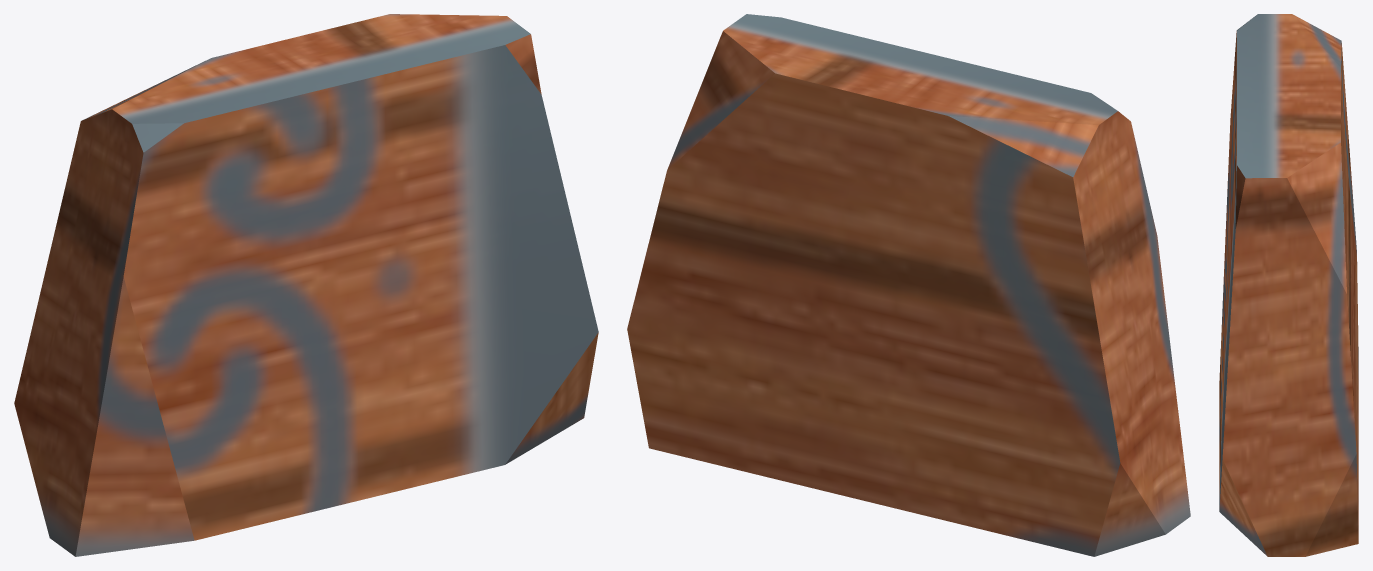
The model's file is Kamen_normal1.fbx.
3 renders of one model, left to right at view 1: azimuth 30°, elevation 25°; view 2: azimuth 150°, elevation 25°; view 3: azimuth 270°, elevation 25°, orthographic. The views are drawn at different scales.
Visible parts, largest first — view 1: Kamen_normal1; view 2: Kamen_normal1; view 3: Kamen_normal1.
Boxes of the visible parts, x1=… form: Kamen_normal1: x1=14, y1=14, x2=598, y2=556; Kamen_normal1: x1=627, y1=14, x2=1190, y2=556; Kamen_normal1: x1=1219, y1=14, x2=1358, y2=556.
Size of the model in its own units: 26.3 by 19.68 by 7.06.
